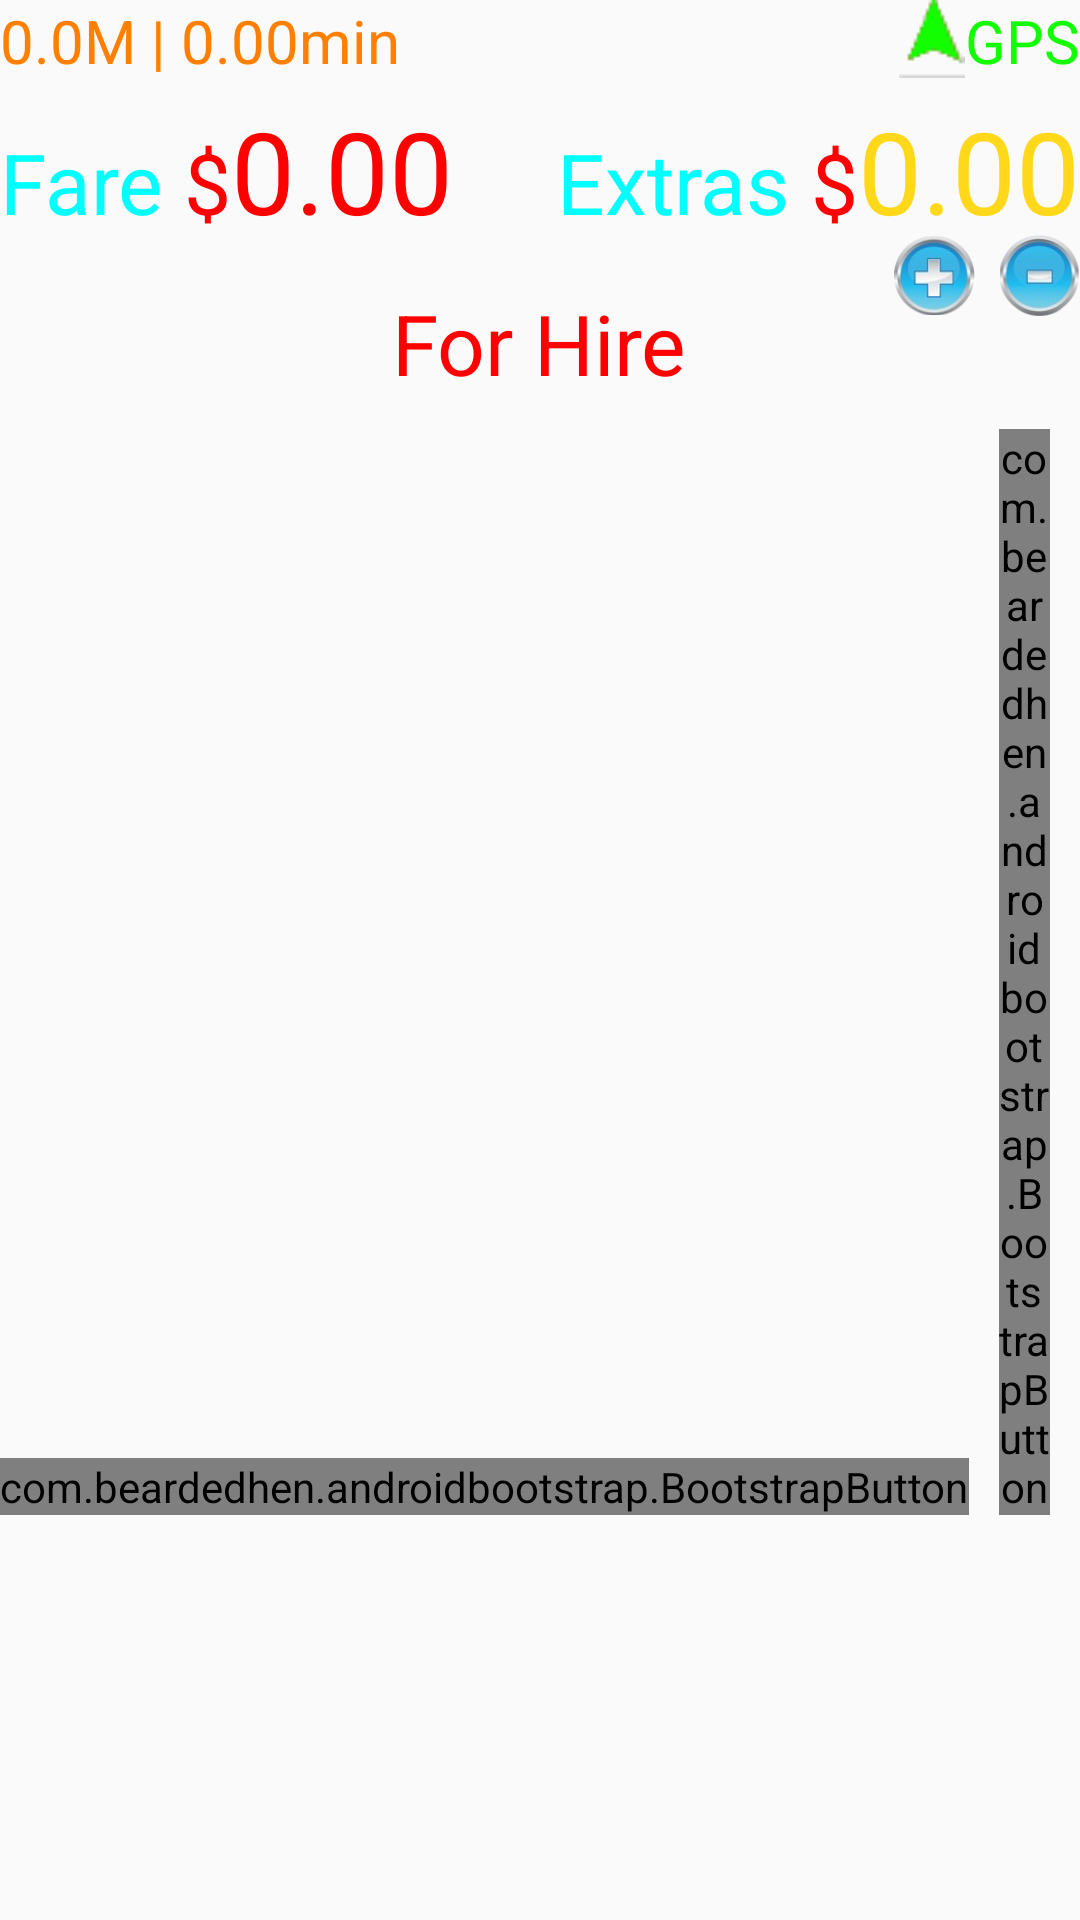

Icon click points for this 1080px x 1920px phone screenshot, format [x,y]:
add: [934,276]
subtract: [1039,276]
